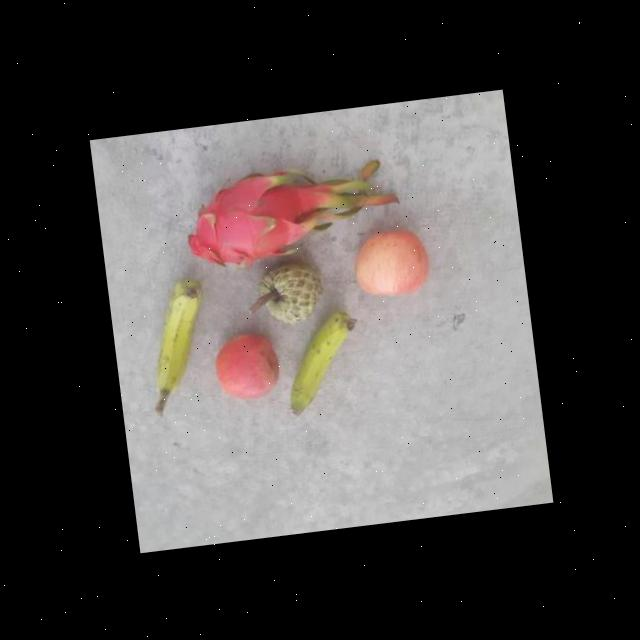Sakya fruit: (252, 254, 324, 331)
apple: (348, 220, 434, 304), (206, 326, 286, 405)
banana: (276, 310, 368, 420), (142, 278, 216, 401)
pitaya: (180, 165, 313, 272)
